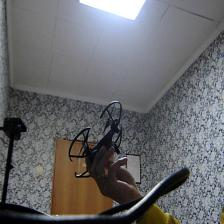drone: (61, 98, 129, 184)
